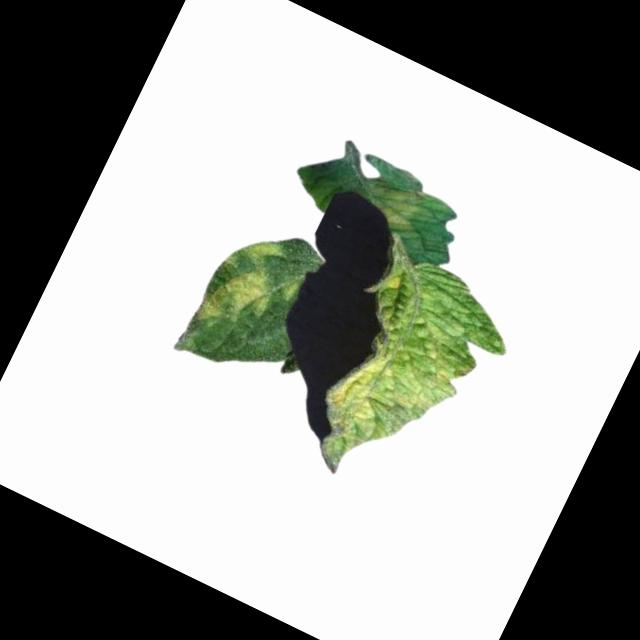Leaf_Mold: (312, 312, 467, 470), (190, 221, 294, 345), (361, 174, 426, 234)
